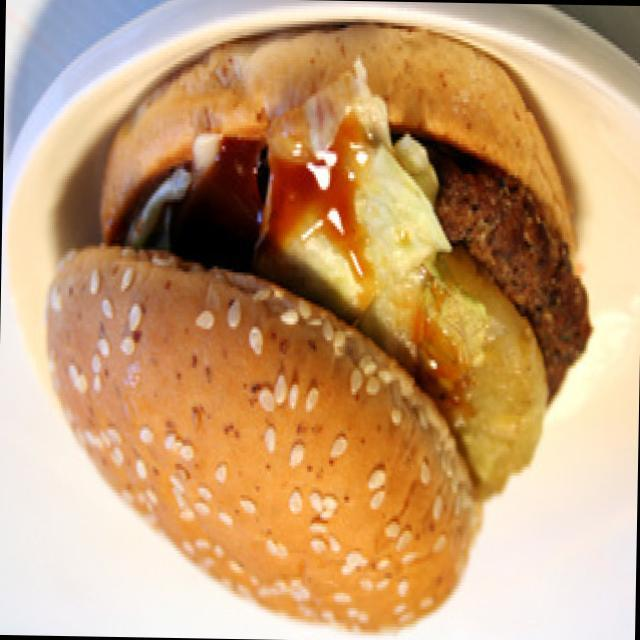Hamburger: (44, 9, 611, 640)
